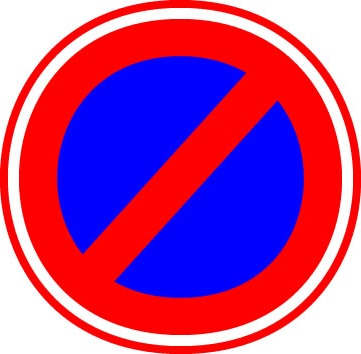Prohibition_sign: (7, 1, 360, 352)
